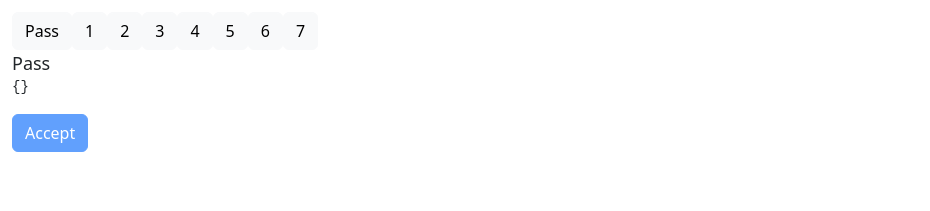
Scenario: Component: score › should not be valid after clicking non-"Pass" level
Click the radio button named "level" at (78, 18), box left=72, top=12, right=85, bottom=25
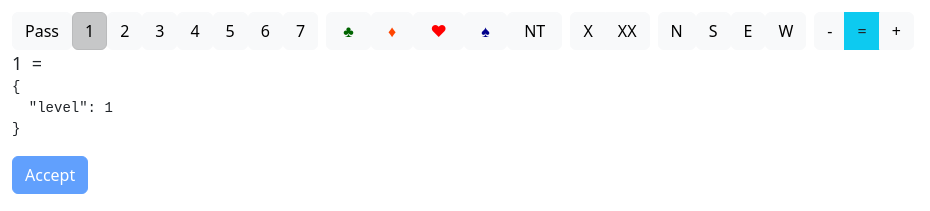
Check: the element showing "1 =" is shown, box left=12, top=51, right=56, bottom=75
Check: the number of buttons named "result" is 1, box left=814, top=12, right=914, bottom=50
